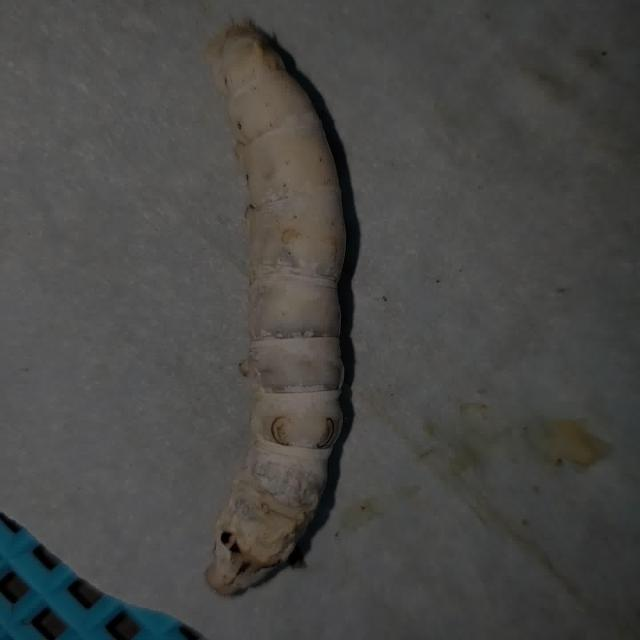Grasserie: (156, 8, 402, 604)
